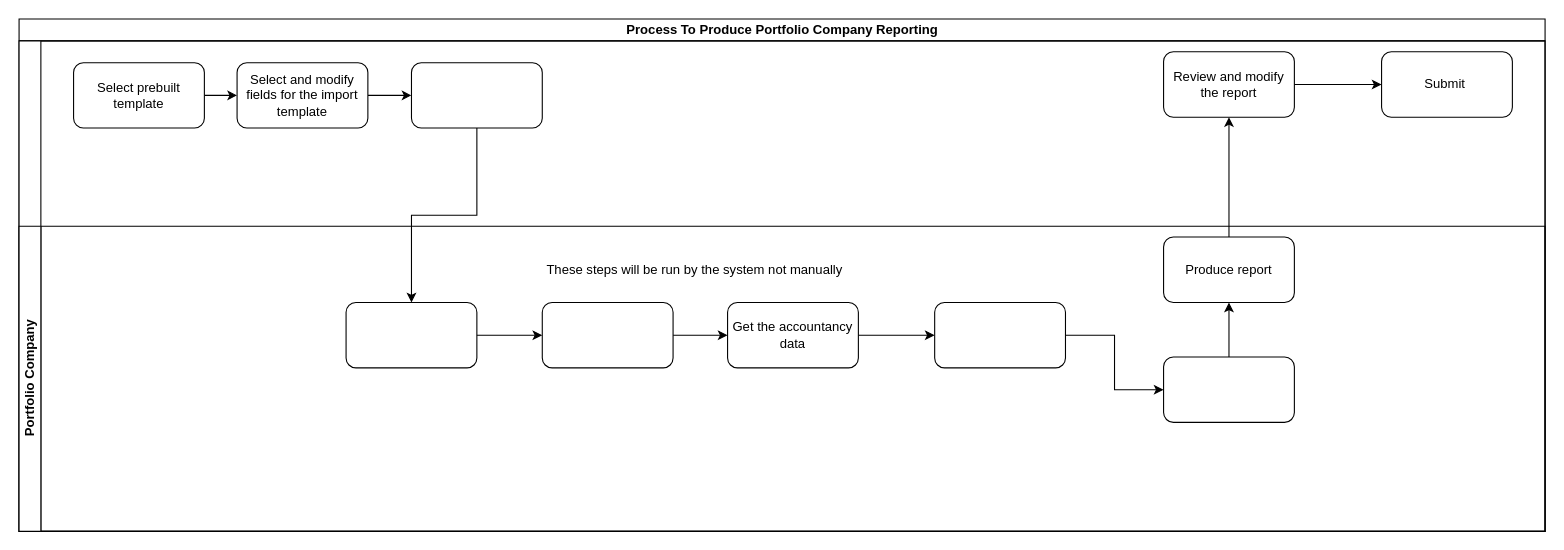
This 1564x550 diagram has some shape labels left out. The centre of each missing label's shape, as x and y in pixels:
"Confirm and save the import template" goes at pixel 476 95.
"Get the import template" goes at pixel 607 334.
"Review , modify and version" goes at pixel 1228 389.
"Run both through the AI model asking for data mapping" goes at pixel 999 334.
"Trigger the report" goes at pixel 411 334.
